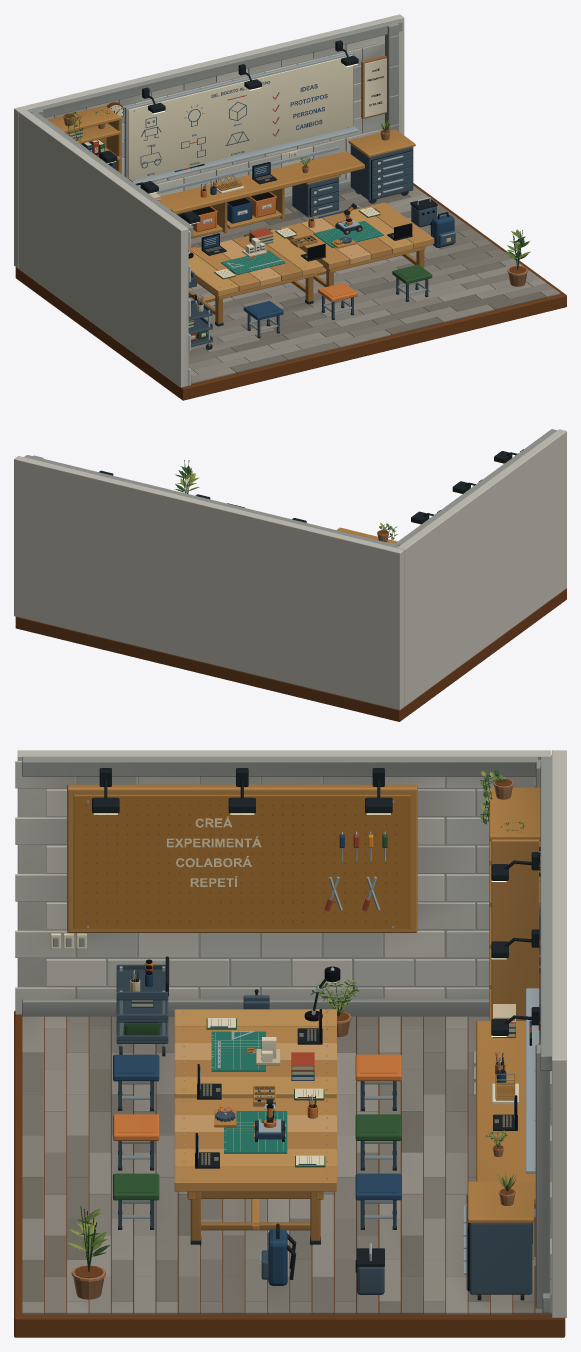
The model's file is projects-reduced.glb.
3 views of the same model, one above another, from view 1: azimuth 30°, elevation 25°; view 2: azimuth 150°, elevation 25°; view 3: azimuth 270°, elevation 25° (orthographic). The views are drawn at different scales.
Visible parts, largest first — view 1: Shared environment v2; view 2: Shared environment v2; view 3: Shared environment v2.
Part boxes in pixels (x1=…): Shared environment v2: x1=14, y1=14, x2=566, y2=400; Shared environment v2: x1=14, y1=429, x2=566, y2=721; Shared environment v2: x1=14, y1=750, x2=566, y2=1337.
Bounding box in the file's own units: 8.22 × 3.52 × 6.2.
